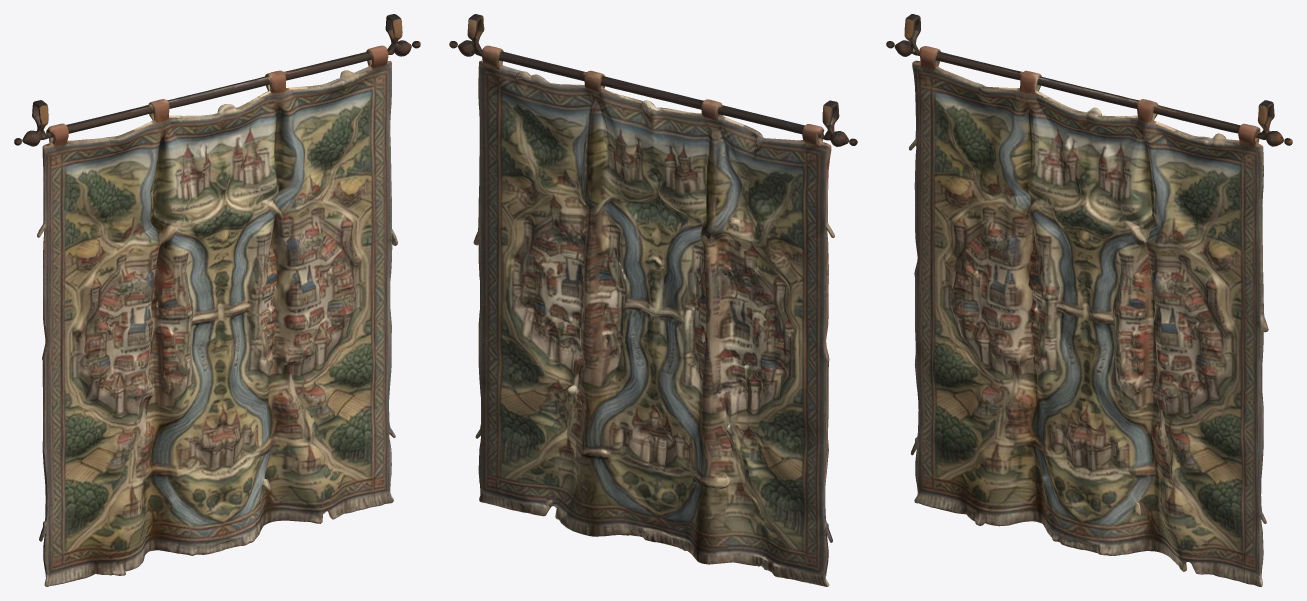
File: obj_chamber_tapestry.glb
3 renders of one model, left to right at view 1: azimuth 30°, elevation 25°; view 2: azimuth 150°, elevation 25°; view 3: azimuth 330°, elevation 25°, orthographic.
Parts seen in each view (by area): view 1: geometry_0; view 2: geometry_0; view 3: geometry_0.
Part boxes in pixels (left/top/right/bottom): geometry_0: left=14, top=14, right=420, bottom=586; geometry_0: left=449, top=14, right=857, bottom=586; geometry_0: left=886, top=14, right=1292, bottom=586.
Bounding box in the file's own units: 1.57 × 1.8 × 0.1167.
Materials: 1 (1 with a texture image).
